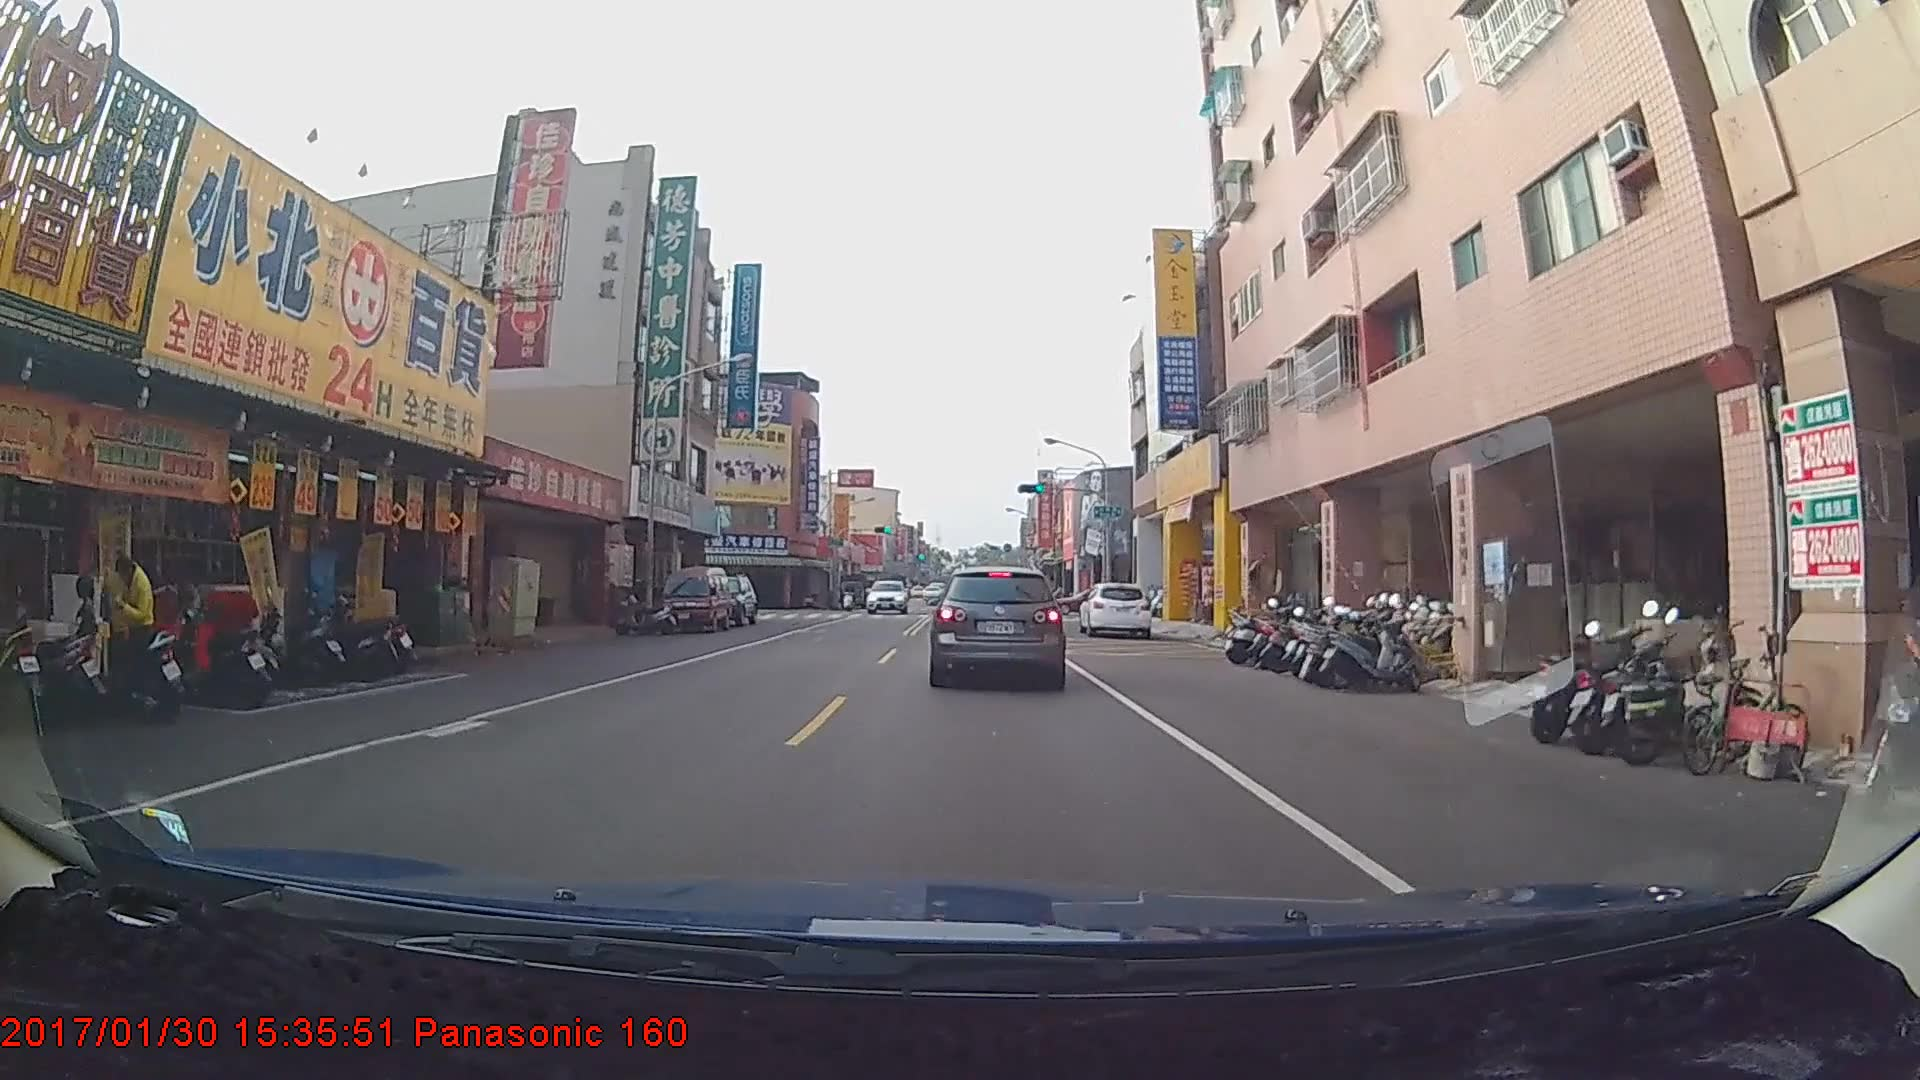pedestrian: (104, 549, 158, 717)
vehicle: (930, 564, 1065, 684), (658, 563, 732, 630), (1077, 582, 1153, 638), (865, 572, 900, 603)
